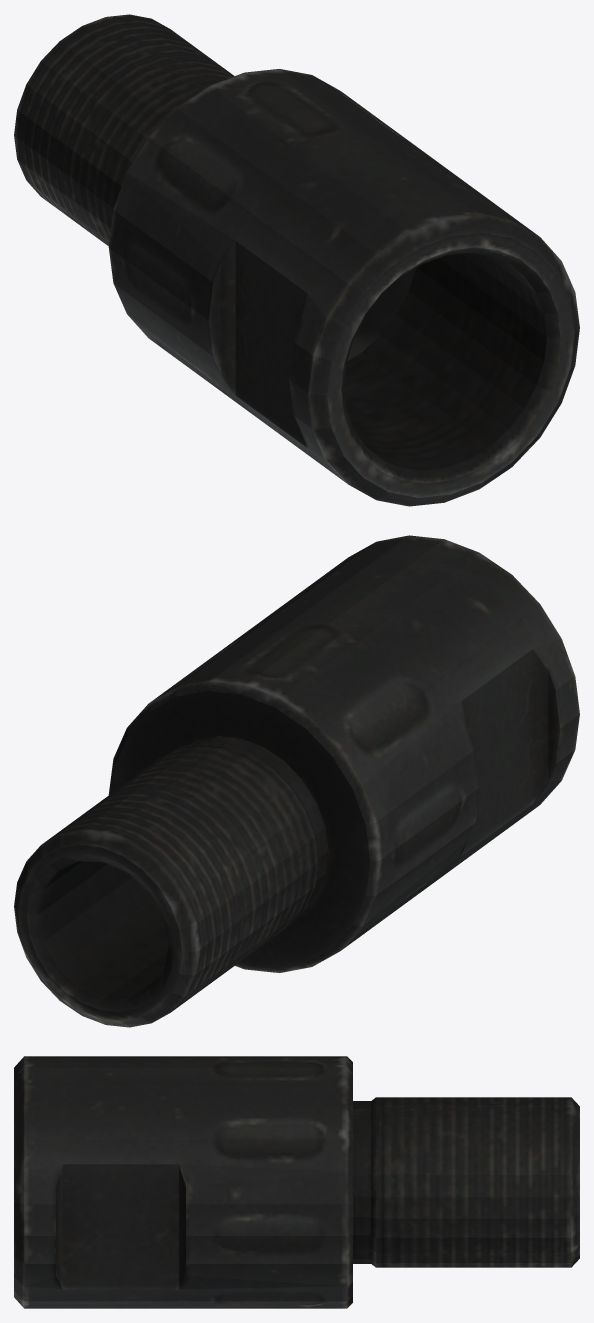
3 views of the same model, one above another, from view 1: azimuth 30°, elevation 25°; view 2: azimuth 150°, elevation 25°; view 3: azimuth 270°, elevation 25° (orthographic). The views are drawn at different scales.
Parts seen in each view (by area): view 1: TW_615d8e9867085e45ef1409c6_PZ_Import; view 2: TW_615d8e9867085e45ef1409c6_PZ_Import; view 3: TW_615d8e9867085e45ef1409c6_PZ_Import.
Part boxes in pixels (<box>): TW_615d8e9867085e45ef1409c6_PZ_Import: <box>14,14,579,506</box>; TW_615d8e9867085e45ef1409c6_PZ_Import: <box>14,535,579,1027</box>; TW_615d8e9867085e45ef1409c6_PZ_Import: <box>14,1056,579,1308</box>.
Bounding box in the file's own units: 0.0108 × 0.0242 × 0.0108.
Materials: 1 (1 with a texture image).
